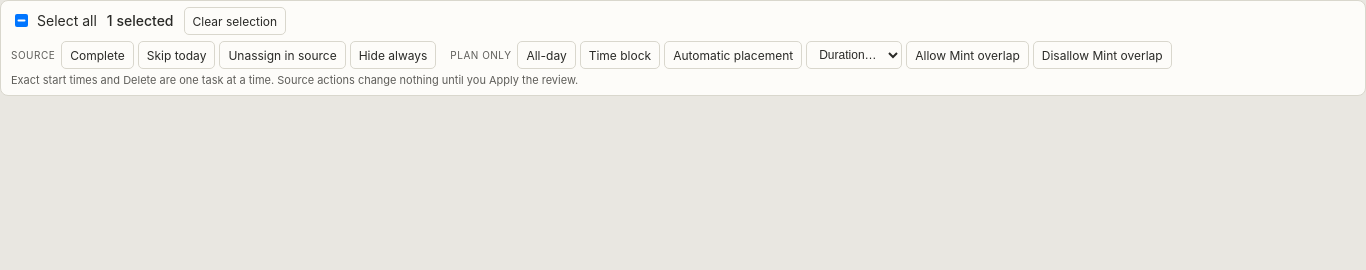
Test: results, retry, and undo › refused and failed results › all refused reads as a failure, shows the full reason, offers no Retry or Undo
The image size is (1366, 270).
Click the button "Complete": click(98, 55) x1=61 y1=41 x2=134 y2=69
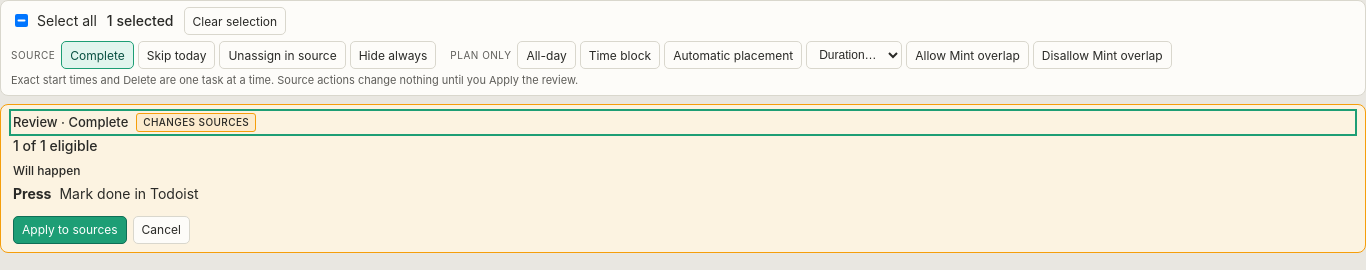
Click the button "Apply to sources": click(70, 230) x1=13 y1=216 x2=127 y2=244
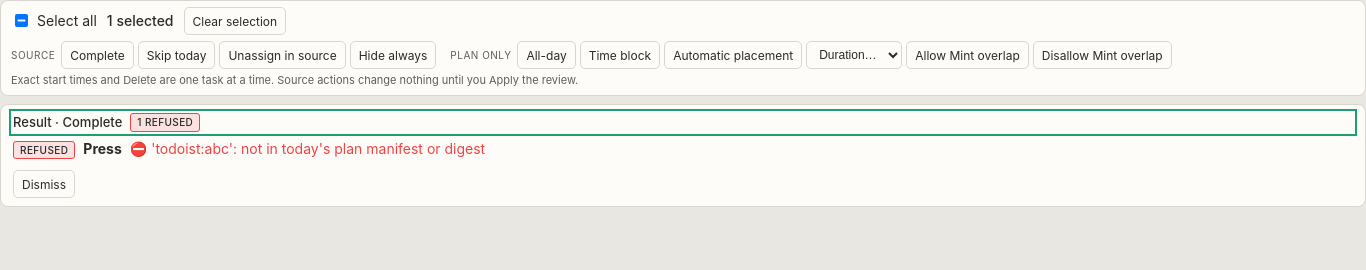
expect the text with class "batch-chip" reads "1 refused": met, box x1=137 y1=116 x2=193 y2=128
expect the text with test id "batch-results" no longer shows "done": met
expect the text with class "batch-chip--bad" reads "Refused": met, box x1=20 y1=144 x2=68 y2=156
